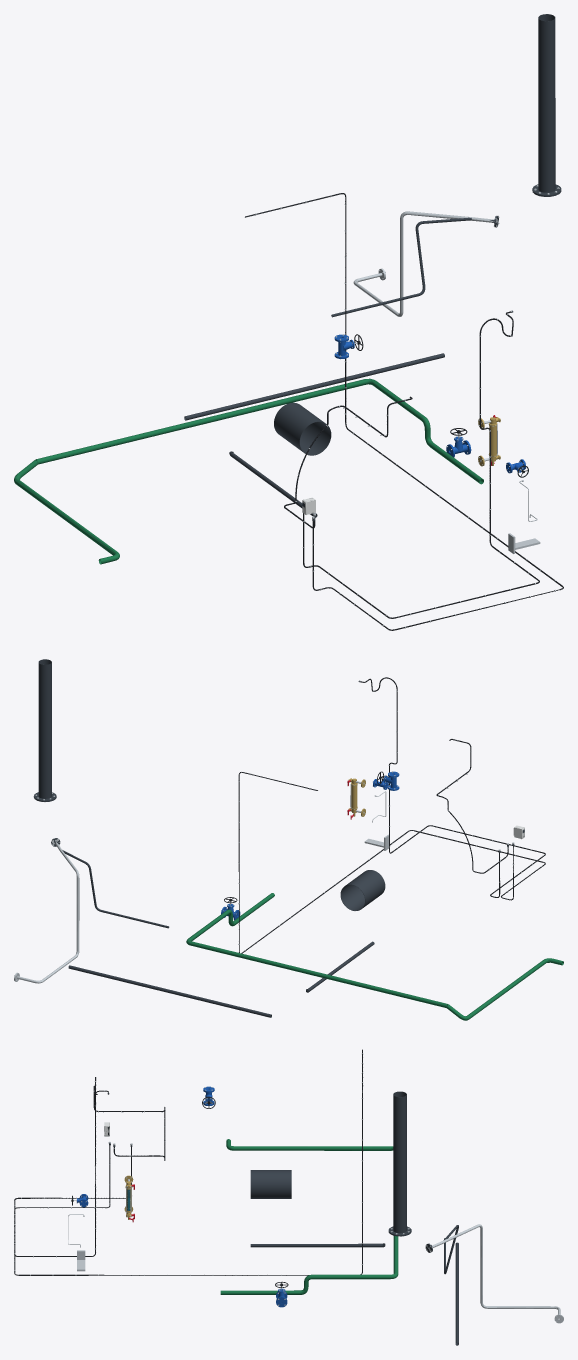
3 renders of one model, top to bottom at view 1: azimuth 30°, elevation 25°; view 2: azimuth 150°, elevation 25°; view 3: azimuth 270°, elevation 25°, orthographic. The views are drawn at different scales.
Parts seen in each view (by area): view 1: bdv_vent / dark, suction_common / green, flue_spacer / dark, mod_direct_drive_cable / black, bottom_discharge / dark, wiring_pressure_transmitter / black, trap_gap_to_bdv / steel, deaerator_feed / green, tds_without_fv / dark; view 2: bdv_vent / dark, suction_common / green, flue_spacer / dark, mod_direct_drive_cable / black, bottom_discharge / dark, wiring_pressure_transmitter / black, trap_gap_to_bdv / steel, deaerator_feed / green, tds_without_fv / dark; view 3: bdv_vent / dark, flue_spacer / dark, suction_common / green, mod_direct_drive_cable / black, deaerator_feed / green, trap_gap_to_bdv / steel, wiring_pressure_transmitter / black, bottom_piping / dark, bottom_discharge / dark.
Part boxes in pixels (box(x1,y1,x2,y2)): bdv_vent / dark: box(532, 14, 561, 196); suction_common / green: box(35, 378, 483, 484); flue_spacer / dark: box(274, 402, 331, 455); mod_direct_drive_cable / black: box(245, 193, 563, 630); bottom_discharge / dark: box(184, 353, 444, 420); wiring_pressure_transmitter / black: box(303, 311, 539, 618); trap_gap_to_bdv / steel: box(353, 211, 499, 316); deaerator_feed / green: box(14, 460, 119, 564); tds_without_fv / dark: box(331, 216, 498, 317); bdv_vent / dark: box(33, 659, 56, 801); suction_common / green: box(186, 893, 448, 1007); flue_spacer / dark: box(340, 870, 385, 910); mod_direct_drive_cable / black: box(238, 772, 545, 953); bottom_discharge / dark: box(68, 965, 271, 1017); wiring_pressure_transmitter / black: box(360, 677, 545, 897); trap_gap_to_bdv / steel: box(14, 838, 79, 983); deaerator_feed / green: box(446, 958, 563, 1020); tds_without_fv / dark: box(51, 838, 169, 928); bdv_vent / dark: box(388, 1091, 411, 1236); flue_spacer / dark: box(250, 1170, 291, 1198); suction_common / green: box(220, 1236, 398, 1294); mod_direct_drive_cable / black: box(14, 1049, 363, 1275); deaerator_feed / green: box(226, 1139, 393, 1150); trap_gap_to_bdv / steel: box(425, 1224, 563, 1323); wiring_pressure_transmitter / black: box(14, 1077, 131, 1256); bottom_piping / dark: box(250, 1243, 385, 1247); bottom_discharge / dark: box(455, 1242, 458, 1345).
Size of the model in its own units: 6.36 by 3.77 by 6.74.
